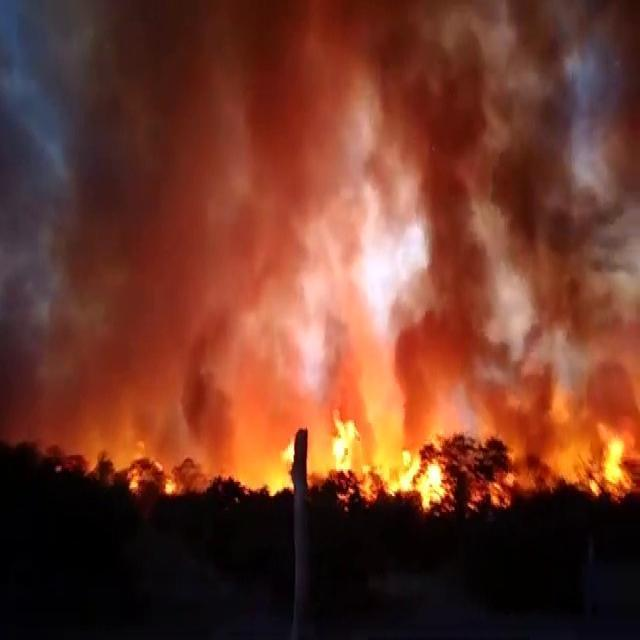Fire: (278, 110, 465, 528), (67, 396, 311, 500), (523, 392, 634, 504)
Smoke: (0, 0, 277, 400), (436, 0, 636, 322)
